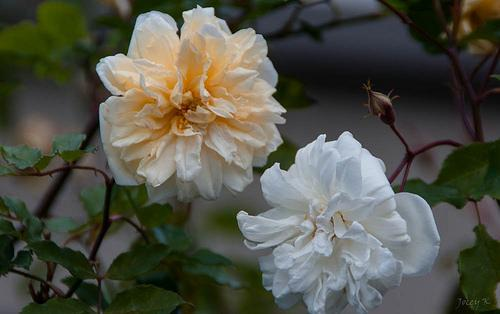Rose: (93, 5, 285, 200), (239, 133, 439, 313)
